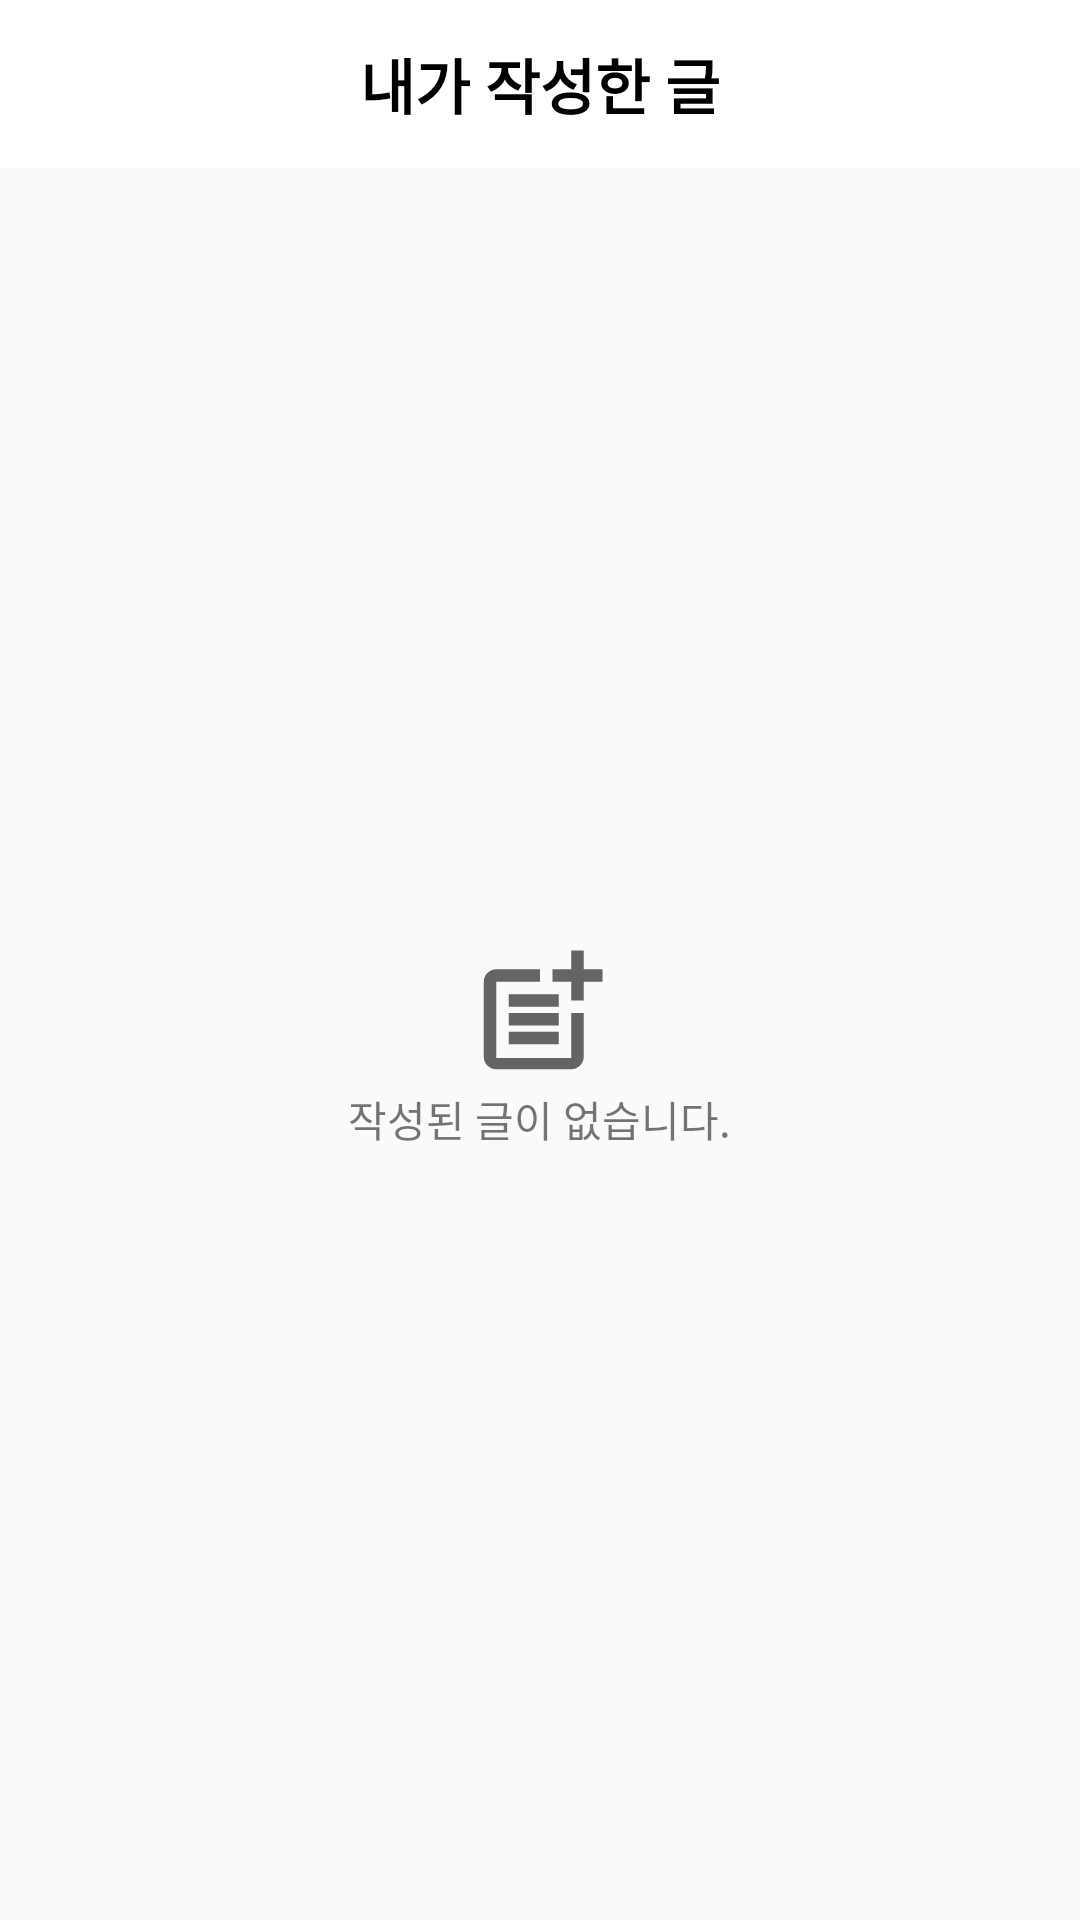

Icon click points for this 1080×1920 phone screenshot, format point (x, y):
post add: point (543, 1010)
